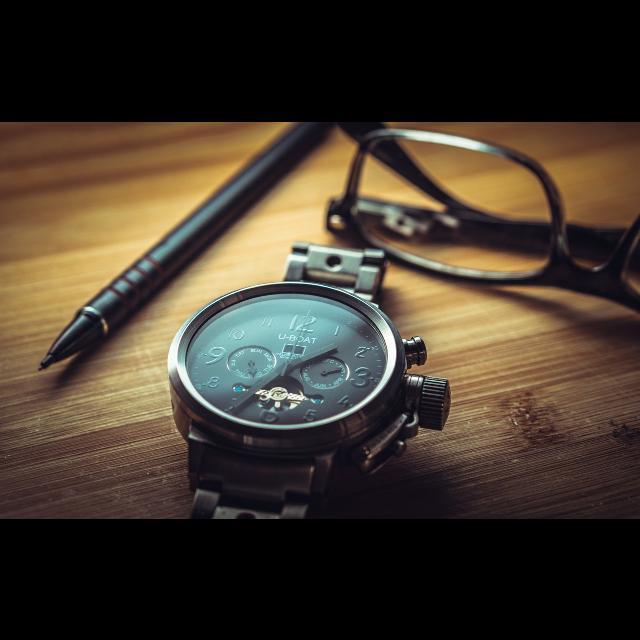glasses: (336, 121, 640, 287)
